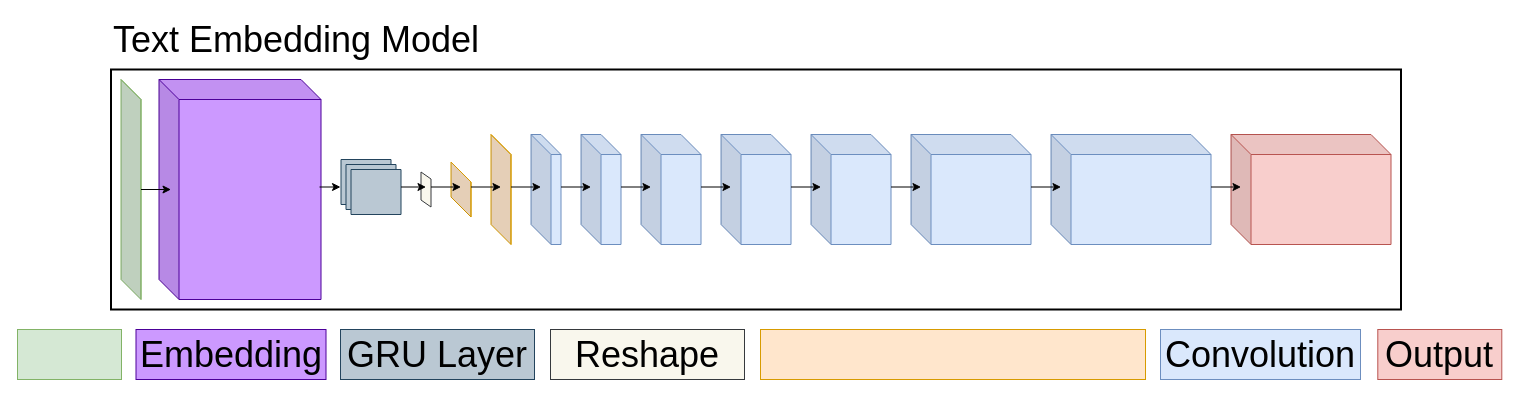
This 1520x397 diagram has some shape labels left out. Here are the shapes that lost their labels. From the top down, the centre of each, then its label:
At [69,354]: "Input".
At [953,354]: "Transpose Convolution".
